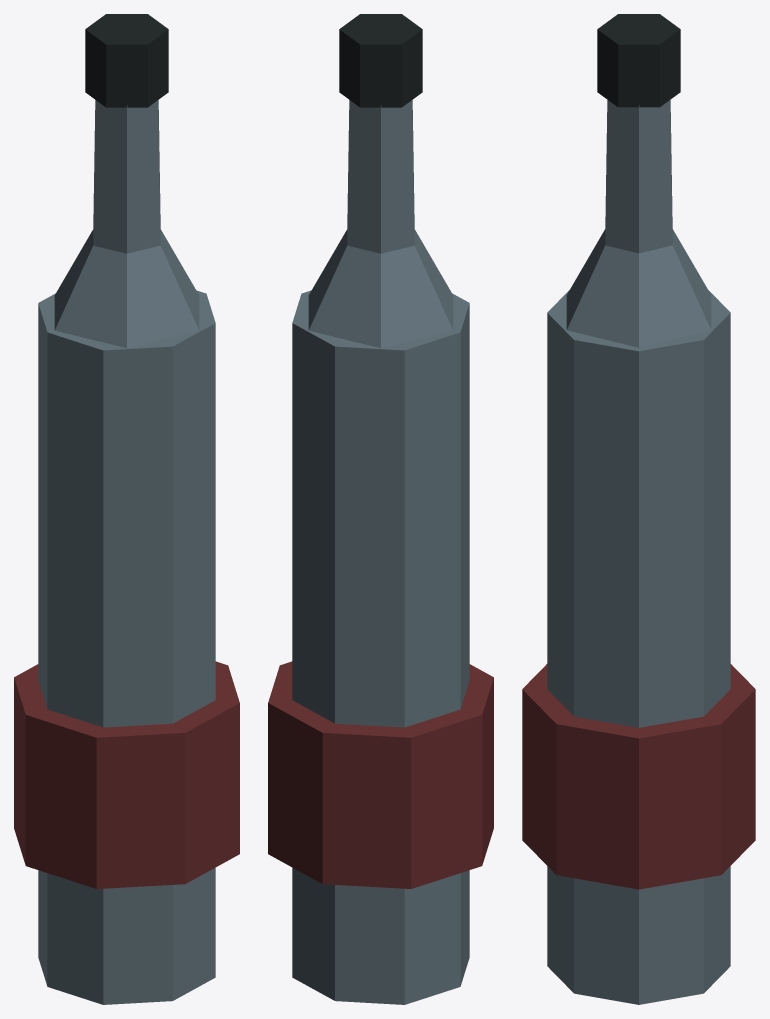
Rendered from sticla_vodka.glb.
The picture shows the model from 3 angles, left to right: view 1: azimuth 30°, elevation 25°; view 2: azimuth 150°, elevation 25°; view 3: azimuth 270°, elevation 25°; orthographic projection.
Visible parts, largest first — view 1: Sticla; view 2: Sticla; view 3: Sticla.
Boxes of the visible parts, <box> form: Sticla: <box>14,14,239,1004</box>; Sticla: <box>268,14,493,1004</box>; Sticla: <box>522,14,755,1004</box>.
Size of the model in its own units: 0.084 by 0.372 by 0.084.
